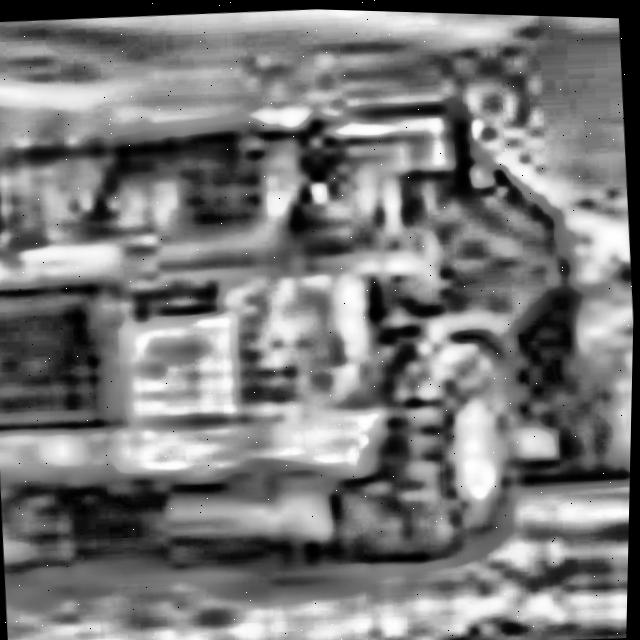dump_truck: (0, 52, 639, 618)
